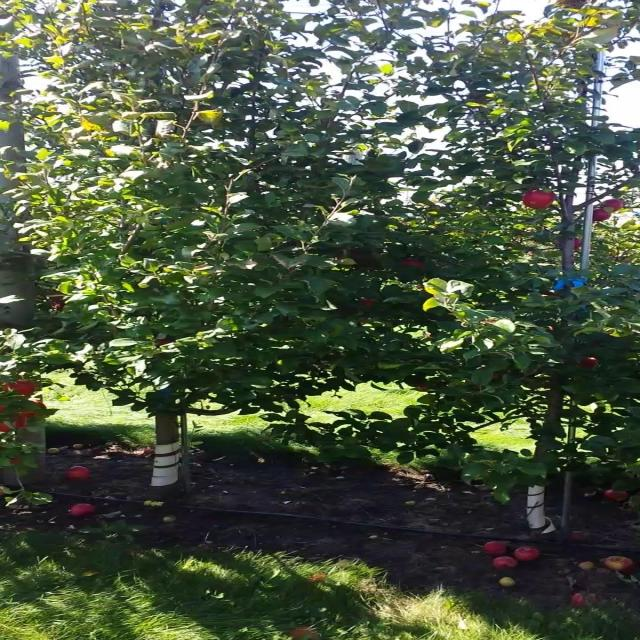apple: (20, 400, 50, 419), (525, 192, 555, 210), (6, 380, 39, 396), (6, 408, 28, 432), (49, 296, 66, 311), (604, 200, 626, 211), (596, 208, 612, 222), (404, 260, 427, 268), (582, 360, 599, 368), (362, 300, 377, 308), (156, 340, 171, 347), (419, 384, 430, 392), (575, 240, 583, 248), (13, 460, 21, 464)
